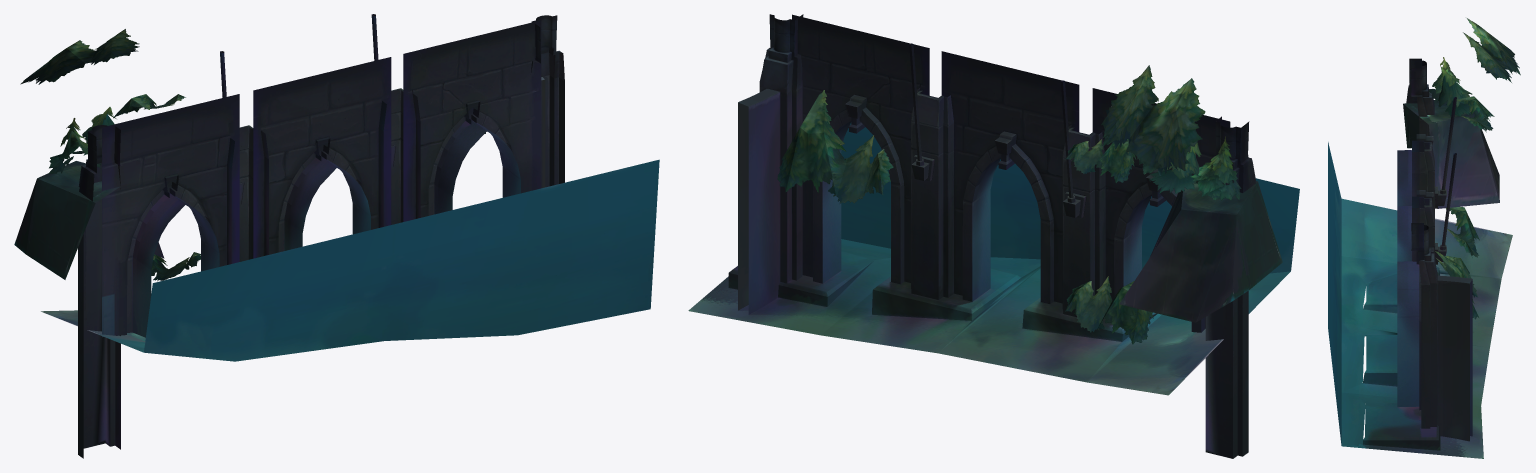
The model's file is MapObject_115.FBX.
The picture shows the model from 3 angles, left to right: view 1: azimuth 30°, elevation 25°; view 2: azimuth 150°, elevation 25°; view 3: azimuth 270°, elevation 25°; orthographic projection. The views are drawn at different scales.
Parts seen in each view (by area): view 1: polySurfaceMapGeoMesh606; view 2: polySurfaceMapGeoMesh606; view 3: polySurfaceMapGeoMesh606.
Part boxes in pixels (x1,y1,x2,y2): polySurfaceMapGeoMesh606: (14, 14, 659, 458); polySurfaceMapGeoMesh606: (688, 14, 1299, 458); polySurfaceMapGeoMesh606: (1328, 18, 1520, 458).
Bounding box in the file's own units: 4005 × 2763 × 1621.
